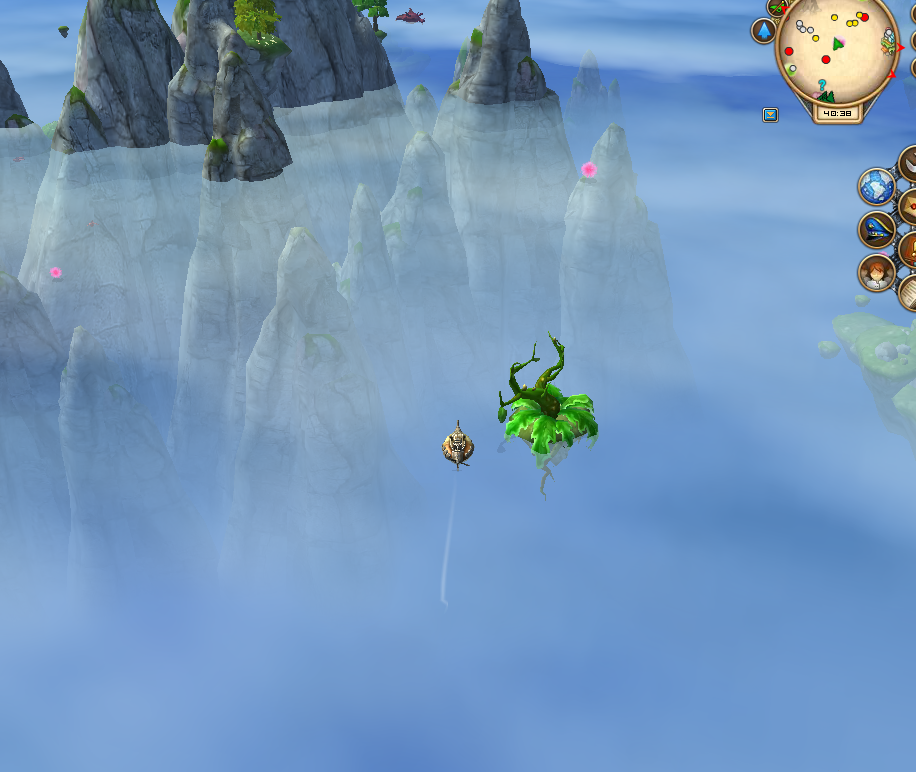dandelion-empty: (492, 327, 604, 486)
fluff: (575, 156, 602, 191)
